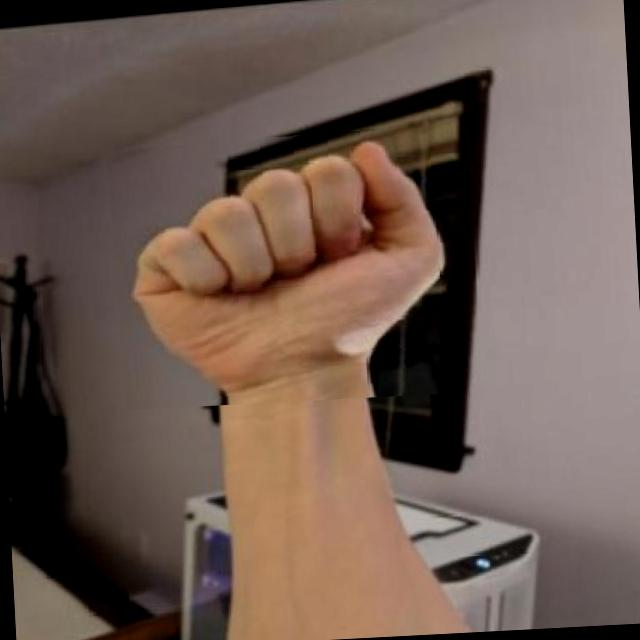A: (105, 123, 459, 411)
